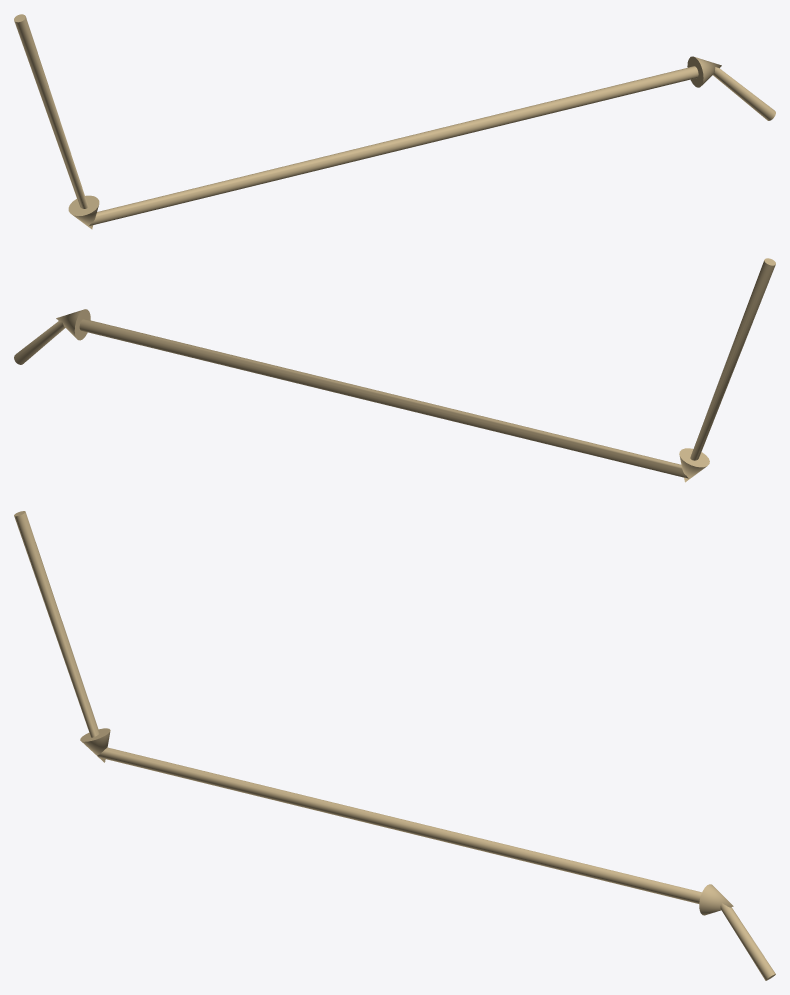
File: alumina_cooler_flow.glb
The picture shows the model from 3 angles, top to bottom: view 1: azimuth 30°, elevation 25°; view 2: azimuth 150°, elevation 25°; view 3: azimuth 330°, elevation 25°; orthographic projection.
Visible parts, largest first — view 1: alumina_flow; view 2: alumina_flow; view 3: alumina_flow.
Part boxes in pixels (x1=…): alumina_flow: x1=14, y1=14, x2=775, y2=229; alumina_flow: x1=14, y1=258, x2=775, y2=482; alumina_flow: x1=14, y1=511, x2=775, y2=980.
Bounding box in the file's own units: 3.54 × 1.28 × 0.14.
